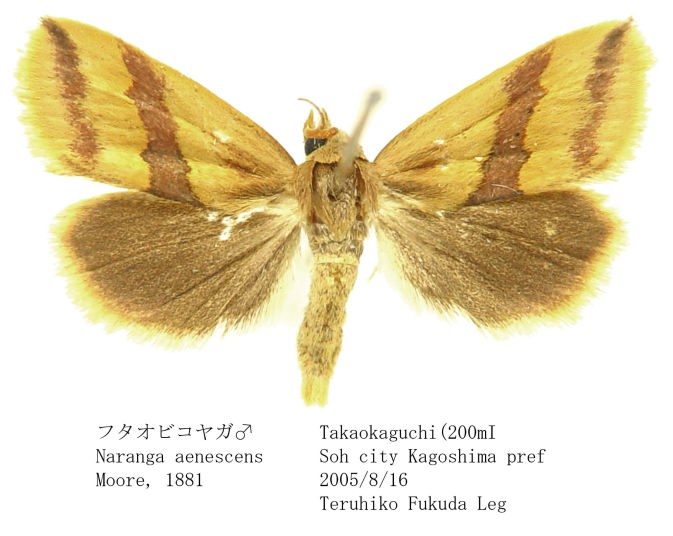Noctuidae: (15, 14, 654, 401)
